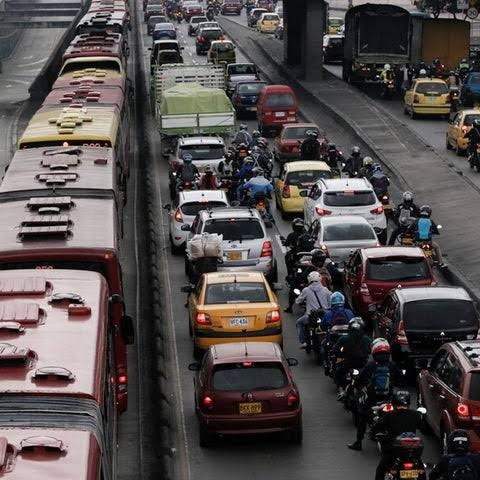car: (2, 9, 474, 455), (174, 1, 477, 393), (88, 4, 462, 269), (1, 257, 120, 477), (379, 326, 476, 467), (192, 349, 304, 446), (337, 3, 461, 90), (413, 333, 480, 466), (348, 252, 453, 333), (400, 298, 479, 405), (329, 238, 431, 318), (361, 366, 434, 474), (362, 270, 476, 339), (373, 393, 457, 480), (379, 284, 479, 355), (342, 1, 415, 91), (191, 274, 283, 345), (421, 373, 478, 476), (355, 250, 435, 314), (156, 81, 235, 145), (157, 80, 235, 143), (363, 333, 414, 427), (350, 354, 405, 439), (192, 264, 276, 317), (331, 325, 377, 415), (368, 415, 433, 478), (194, 208, 267, 264), (343, 345, 387, 434), (360, 323, 403, 414), (317, 217, 385, 274), (417, 421, 478, 480), (281, 167, 350, 219), (184, 201, 258, 249), (302, 173, 373, 223), (277, 161, 333, 218), (320, 316, 365, 383), (364, 251, 432, 293), (333, 317, 372, 388), (360, 357, 395, 436), (278, 162, 332, 213), (367, 400, 421, 451), (172, 137, 226, 183), (315, 179, 380, 217), (175, 189, 229, 234), (361, 389, 406, 443), (363, 340, 395, 415), (375, 437, 429, 480), (182, 233, 225, 287), (315, 318, 352, 380), (339, 360, 373, 427), (202, 209, 261, 247), (404, 74, 456, 117), (257, 85, 300, 135), (404, 76, 455, 118), (171, 153, 225, 191), (172, 136, 228, 170), (172, 199, 206, 251), (237, 176, 277, 220), (181, 185, 230, 218), (227, 71, 262, 112)
